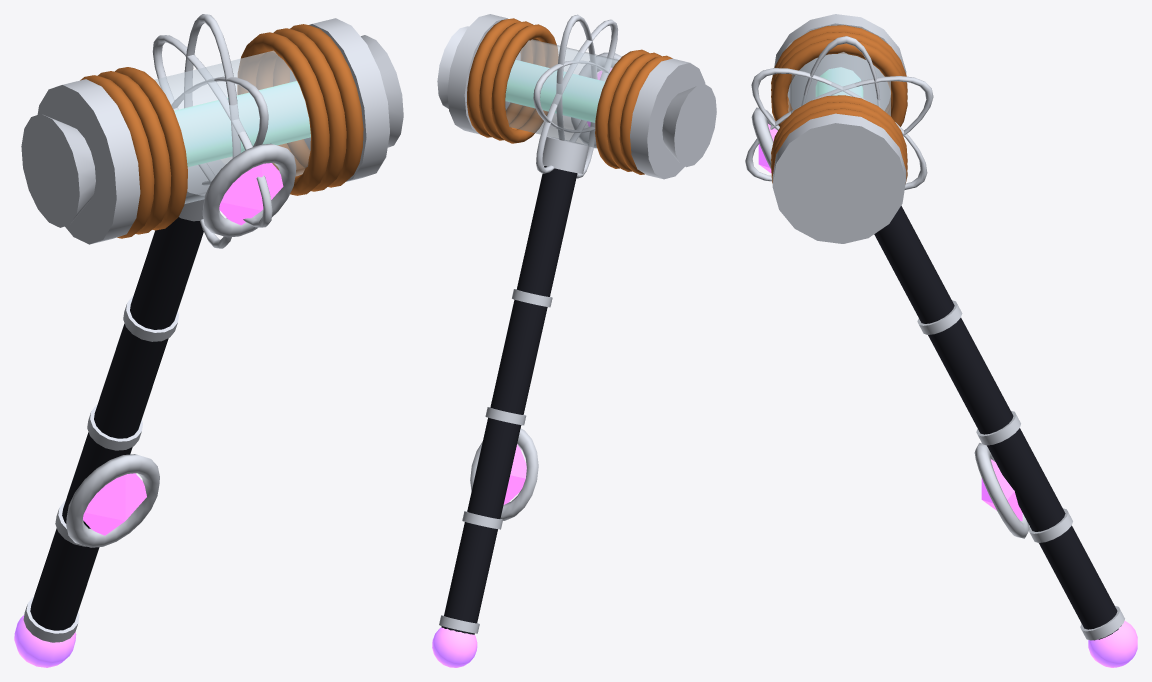
File: hand_eqgw2.glb
3 views of the same model, side by side, from view 1: azimuth 30°, elevation 25°; view 2: azimuth 150°, elevation 25°; view 3: azimuth 270°, elevation 25° (orthographic). The views are drawn at different scales.
Size of the model in its own units: 1.87 by 4.25 by 2.4.
